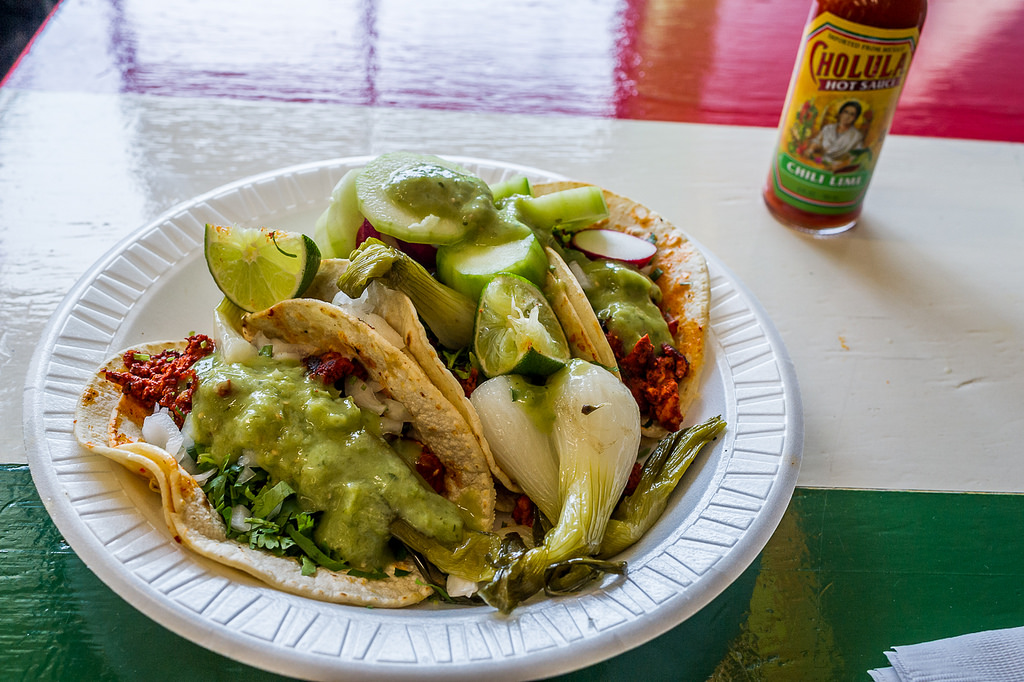chopped lettuce: (199, 454, 351, 571)
